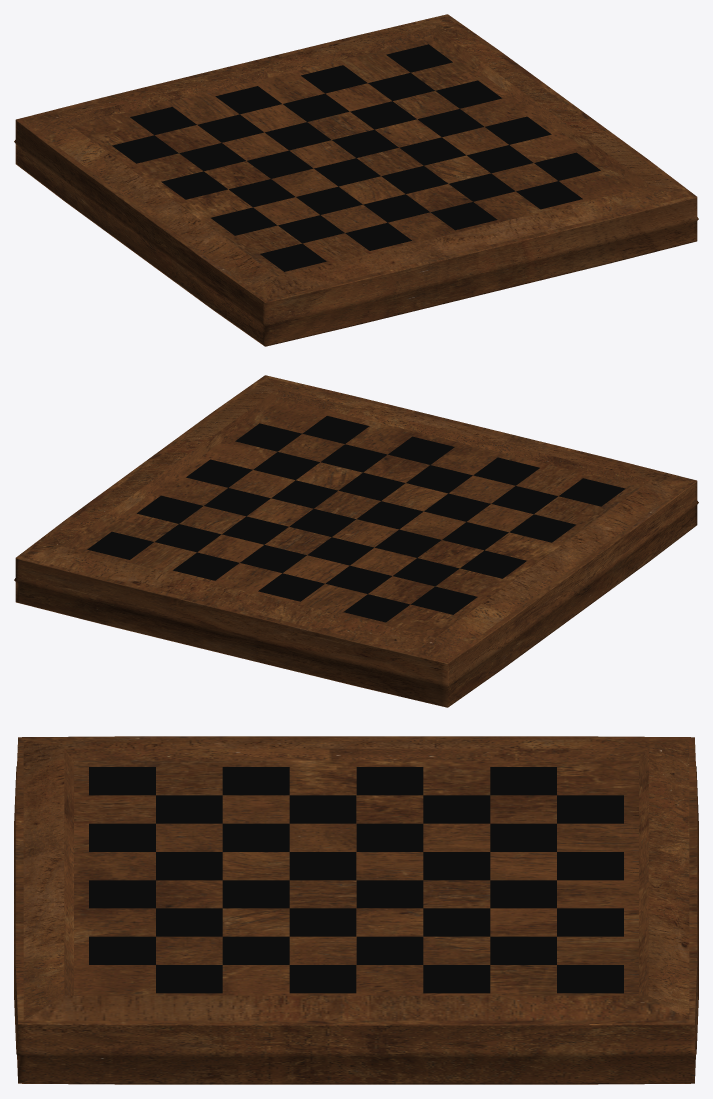
File: Chess_Board.obj
The picture shows the model from 3 angles, top to bottom: view 1: azimuth 30°, elevation 25°; view 2: azimuth 150°, elevation 25°; view 3: azimuth 270°, elevation 25°; orthographic projection. The views are drawn at different scales.
Visible parts, largest first — view 1: Board.001_Wood.001, Board.001_Black_Squares.001; view 2: Board.001_Wood.001, Board.001_Black_Squares.001; view 3: Board.001_Wood.001, Board.001_Black_Squares.001.
Boxes of the visible parts, box(x1,y1,x2,y2) form: Board.001_Wood.001: box(14, 14, 698, 346); Board.001_Black_Squares.001: box(112, 44, 600, 271); Board.001_Wood.001: box(14, 375, 698, 707); Board.001_Black_Squares.001: box(87, 416, 625, 622); Board.001_Wood.001: box(14, 736, 698, 1084); Board.001_Black_Squares.001: box(89, 767, 623, 993).
Size of the model in its own units: 10.24 by 1.13 by 10.24.
